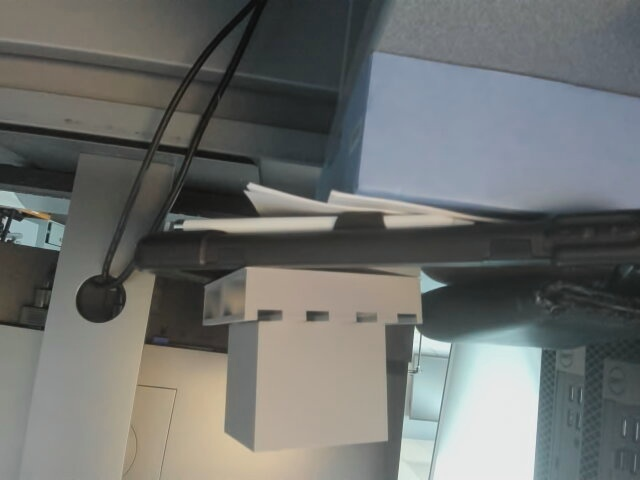grey pallet: (183, 255, 429, 460)
